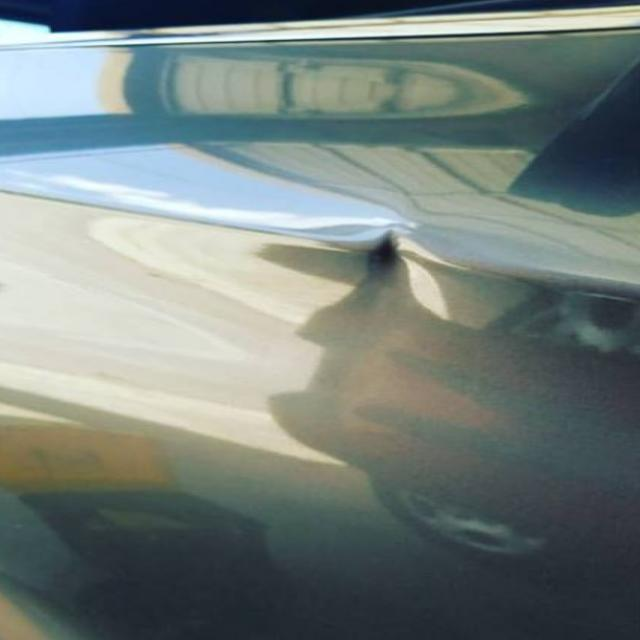dents: (338, 221, 466, 326)
